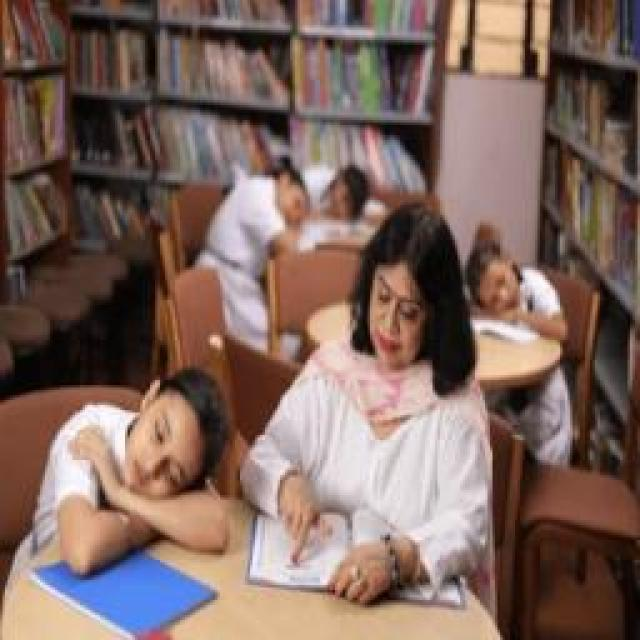sleep: (35, 365, 230, 560), (463, 238, 565, 352), (205, 170, 313, 258)
